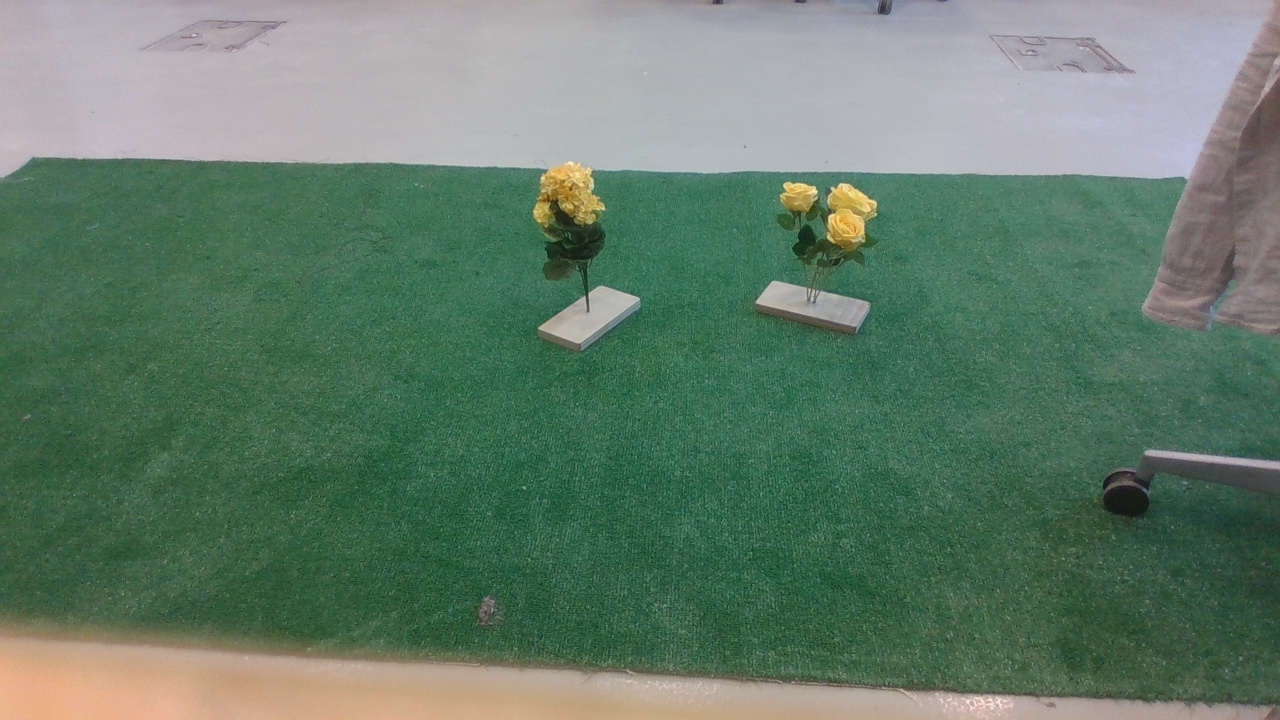geranium: (527, 159, 629, 291)
rose: (765, 172, 890, 283)
